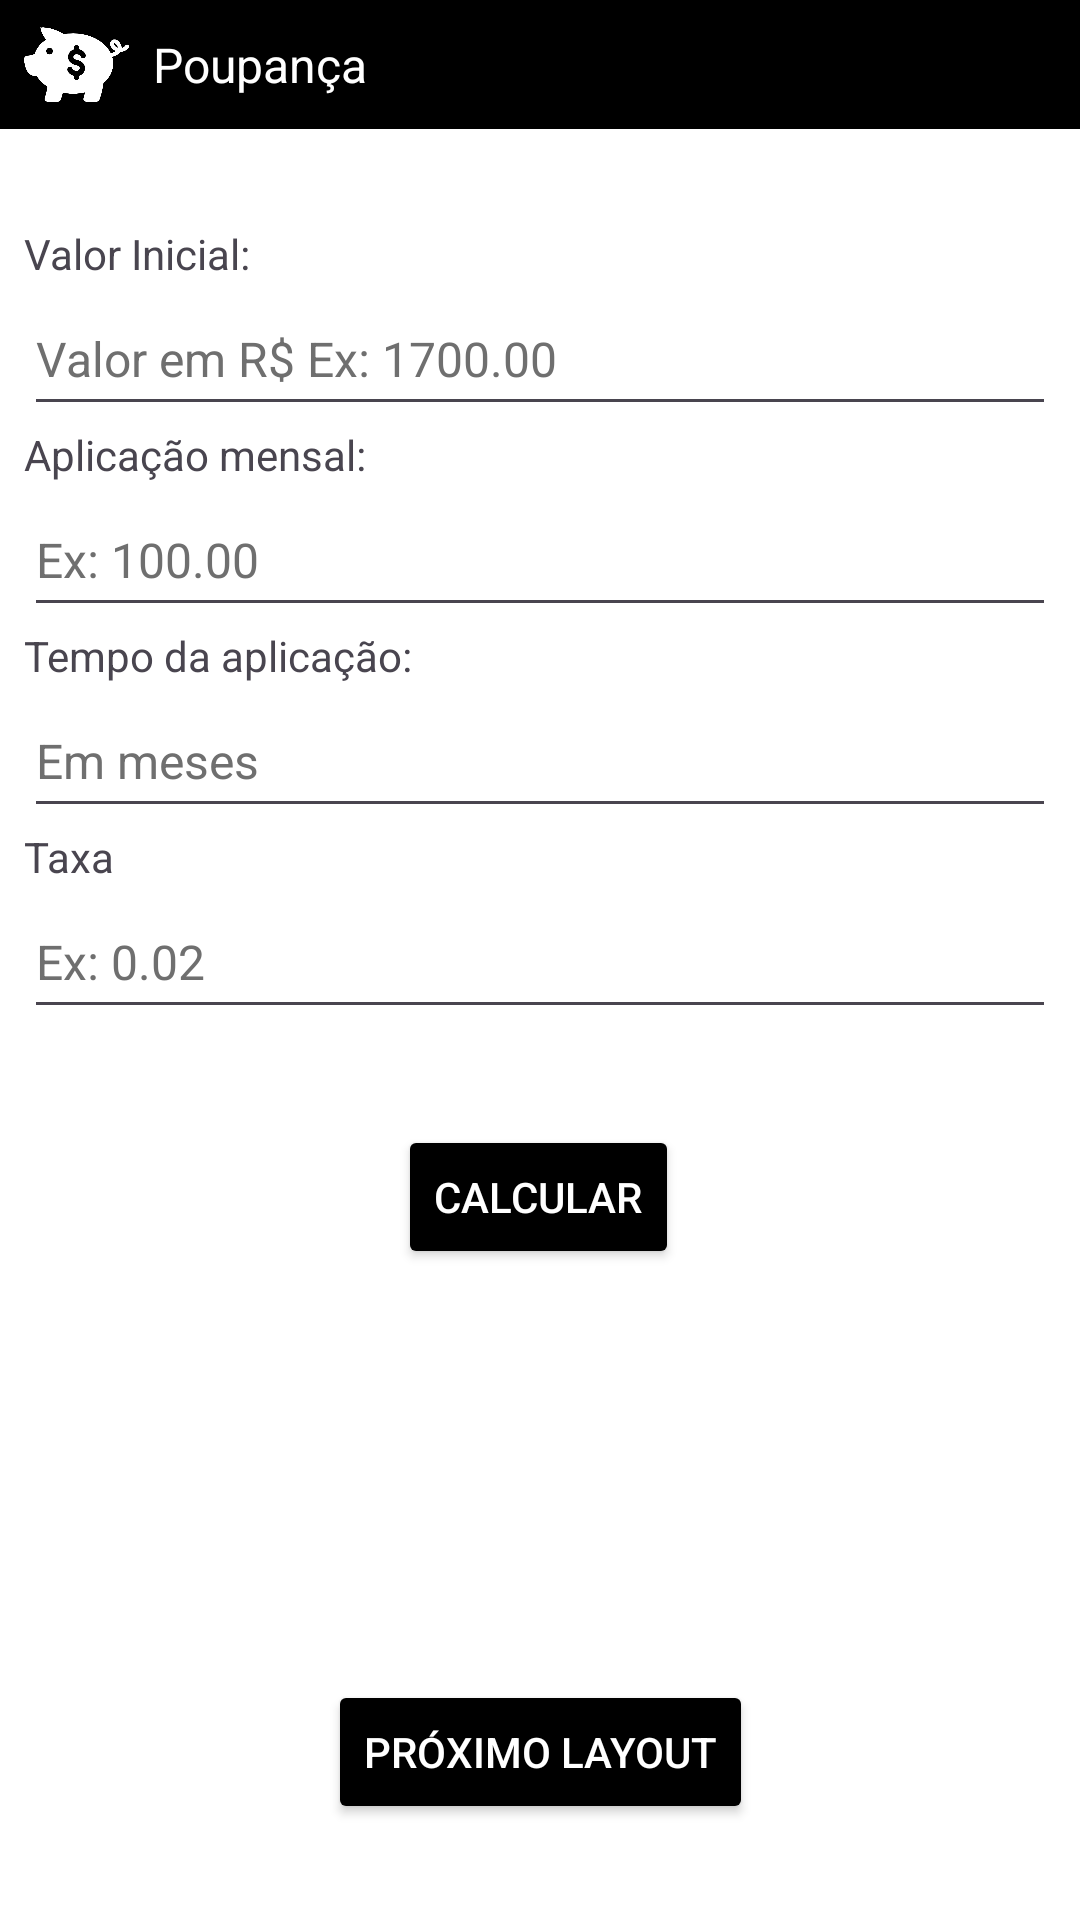

Icon bounding boxes for this 1080×1920 phone screenshot, format {"left": x1, "top": y1, "right": x2, "bottom": y2}:
Cofrinho minimalista branco com um cifrão no meio: {"left": 24, "top": 27, "right": 129, "bottom": 102}
